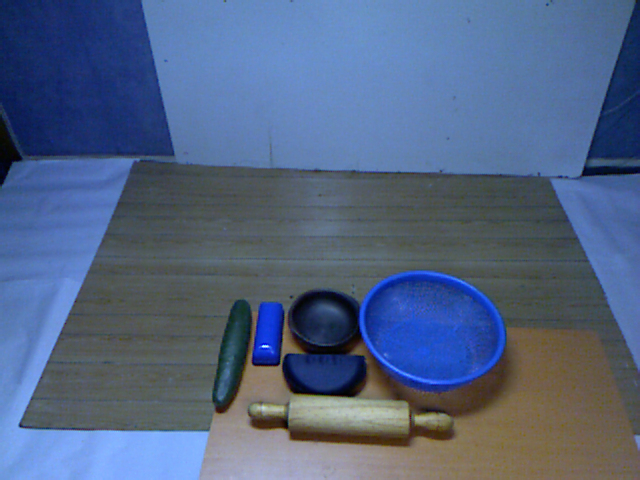borrador: (248, 297, 287, 372)
colador: (354, 265, 509, 397)
estuche: (277, 349, 371, 402)
greda: (284, 289, 369, 353)
pepino: (210, 293, 257, 416)
uslero: (245, 392, 461, 448)
